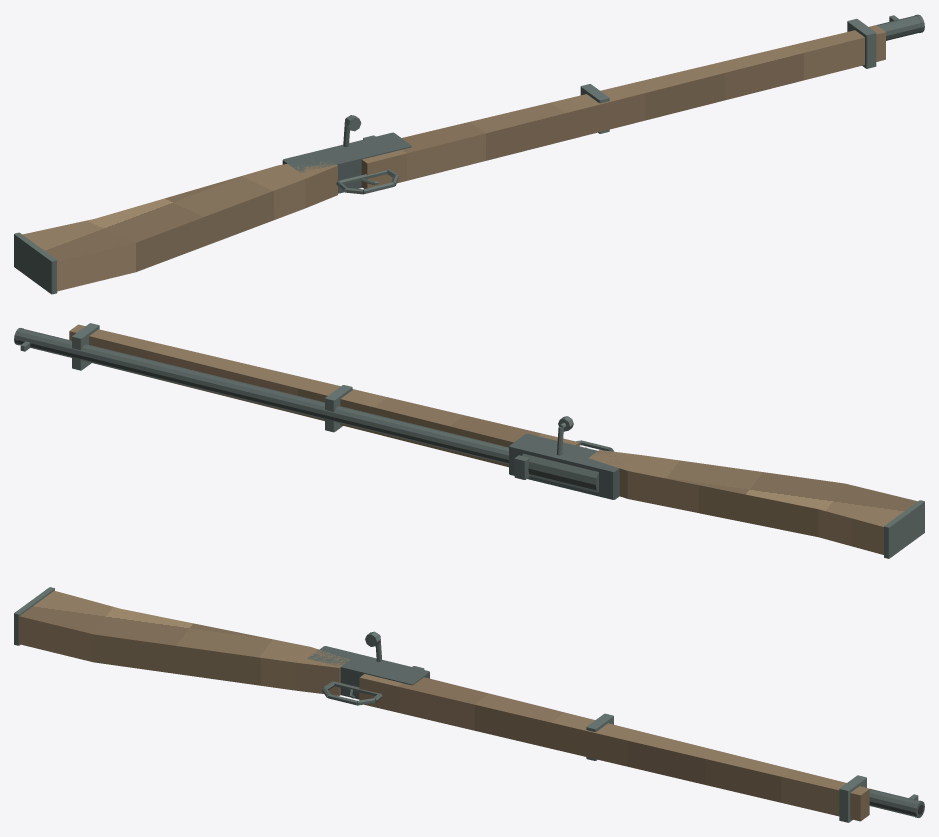
Rendered from weapon-dreyse-1841.glb.
3 renders of one model, top to bottom at view 1: azimuth 30°, elevation 25°; view 2: azimuth 150°, elevation 25°; view 3: azimuth 330°, elevation 25°, orthographic. The views are drawn at different scales.
Visible parts, largest first — view 1: weapon-dreyse-1841/tapered-full-depth-forend, weapon-dreyse-1841/shaped-solid-butt, weapon-dreyse-1841/central-receiver, weapon-dreyse-1841/butt-end-plate, weapon-dreyse-1841/stock-band-1, weapon-dreyse-1841/long-barrel; view 2: weapon-dreyse-1841/shaped-solid-butt, weapon-dreyse-1841/tapered-full-depth-forend, weapon-dreyse-1841/long-barrel, weapon-dreyse-1841/central-receiver, weapon-dreyse-1841/receiver-top-cylinder, weapon-dreyse-1841/butt-end-plate, weapon-dreyse-1841/stock-band-1, weapon-dreyse-1841/stock-band-0; view 3: weapon-dreyse-1841/tapered-full-depth-forend, weapon-dreyse-1841/shaped-solid-butt, weapon-dreyse-1841/central-receiver, weapon-dreyse-1841/long-barrel, weapon-dreyse-1841/stock-band-1.
Part boxes in pixels (x1,y1,x2,y2): weapon-dreyse-1841/tapered-full-depth-forend: (361, 25, 885, 188); weapon-dreyse-1841/shaped-solid-butt: (22, 162, 337, 291); weapon-dreyse-1841/central-receiver: (282, 132, 411, 193); weapon-dreyse-1841/butt-end-plate: (14, 232, 57, 294); weapon-dreyse-1841/stock-band-1: (847, 18, 876, 68); weapon-dreyse-1841/long-barrel: (877, 15, 921, 40); weapon-dreyse-1841/shaped-solid-butt: (588, 450, 917, 554); weapon-dreyse-1841/tapered-full-depth-forend: (69, 324, 579, 467); weapon-dreyse-1841/long-barrel: (17, 329, 509, 464); weapon-dreyse-1841/central-receiver: (509, 433, 623, 499); weapon-dreyse-1841/receiver-top-cylinder: (522, 453, 598, 492); weapon-dreyse-1841/butt-end-plate: (884, 500, 924, 558); weapon-dreyse-1841/stock-band-1: (72, 323, 99, 370); weapon-dreyse-1841/stock-band-0: (325, 385, 352, 432); weapon-dreyse-1841/tapered-full-depth-forend: (359, 674, 869, 821); weapon-dreyse-1841/shaped-solid-butt: (19, 590, 349, 695); weapon-dreyse-1841/central-receiver: (307, 646, 429, 699); weapon-dreyse-1841/long-barrel: (869, 788, 918, 816); weapon-dreyse-1841/stock-band-1: (839, 775, 866, 822).
Bounding box in the file's own units: 1.42 × 0.1 × 0.1515.
3 materials, 3 textured.
